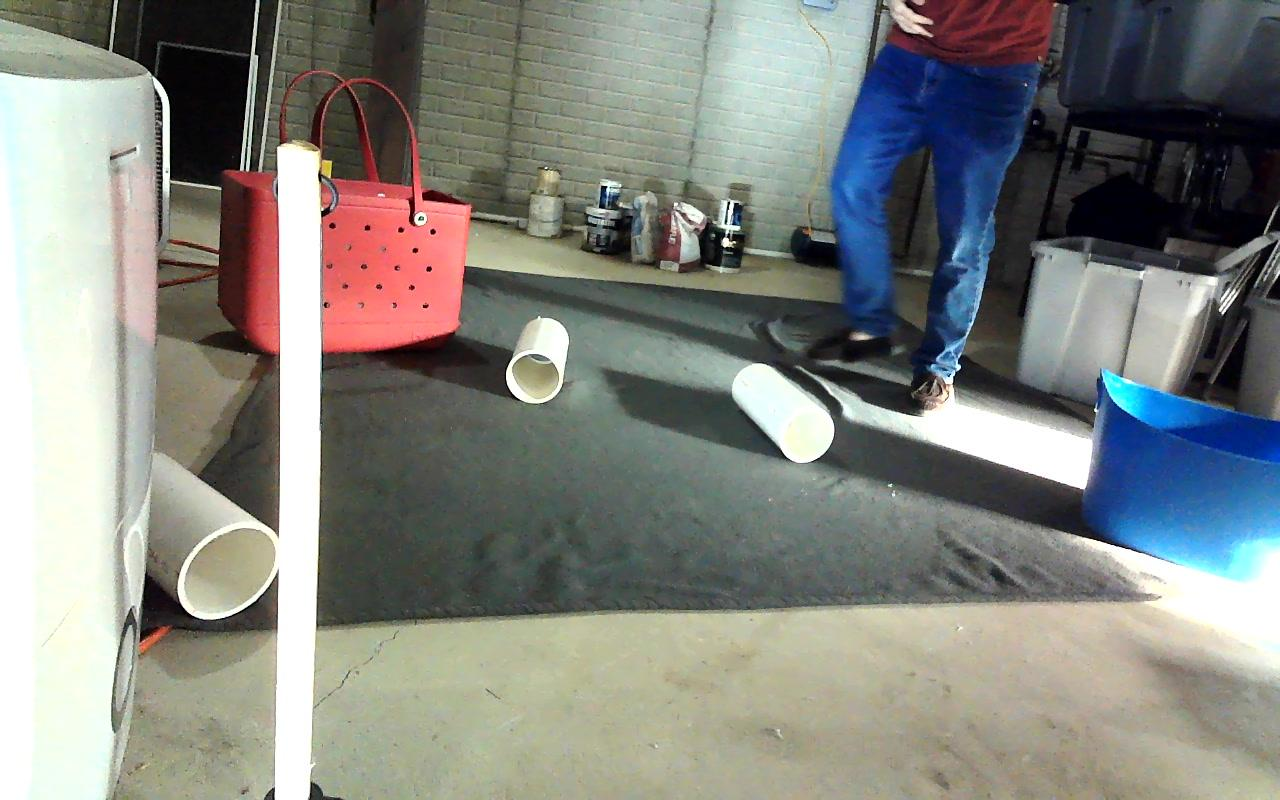coral: (144, 451, 276, 619), (731, 362, 834, 461), (505, 318, 568, 403)
